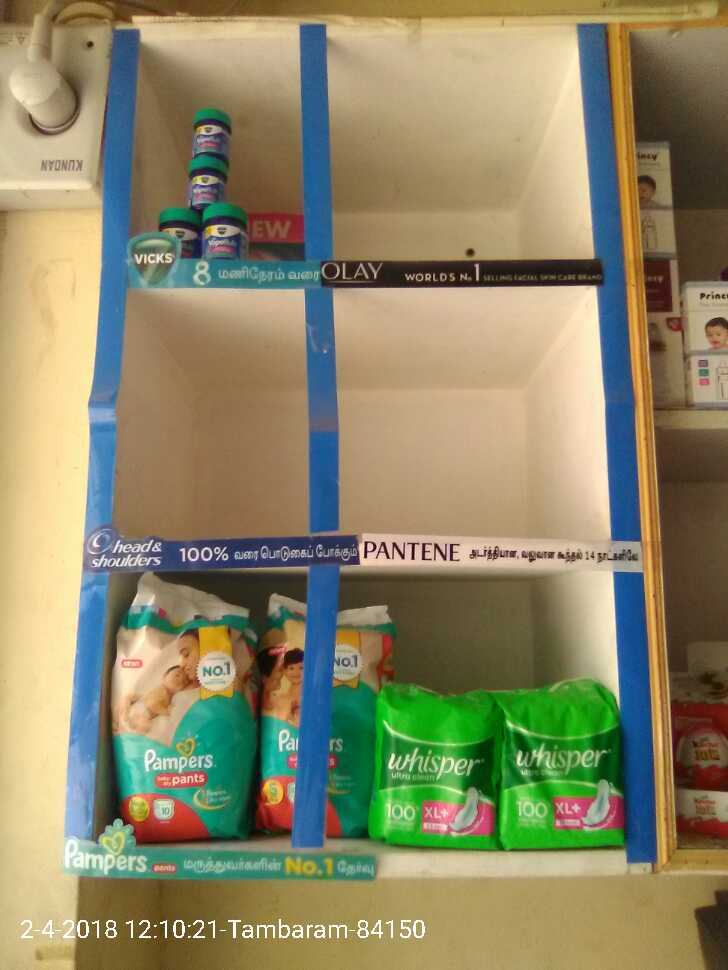vicks: (159, 96, 253, 262)
